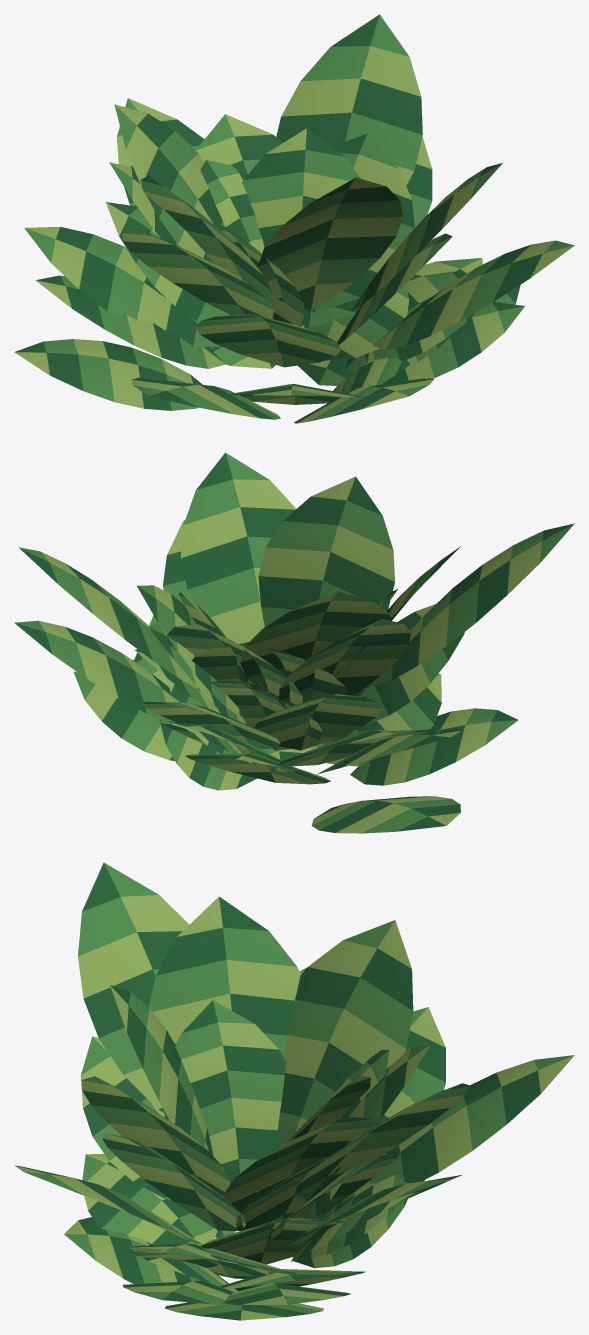
The model's file is arbusto_tropical_LOD0-2.fbx.
3 renders of one model, top to bottom at view 1: azimuth 30°, elevation 25°; view 2: azimuth 150°, elevation 25°; view 3: azimuth 270°, elevation 25°, orthographic. The views are drawn at different scales.
Parts seen in each view (by area): view 1: arbusto_tropical_LOD0; view 2: arbusto_tropical_LOD0; view 3: arbusto_tropical_LOD0.
Boxes of the visible parts, bbox=[...] form: arbusto_tropical_LOD0: bbox=[14, 14, 574, 423]; arbusto_tropical_LOD0: bbox=[14, 452, 574, 833]; arbusto_tropical_LOD0: bbox=[14, 862, 574, 1320].
Size of what is drawn, in the model's own units: 156 by 90.06 by 154.
